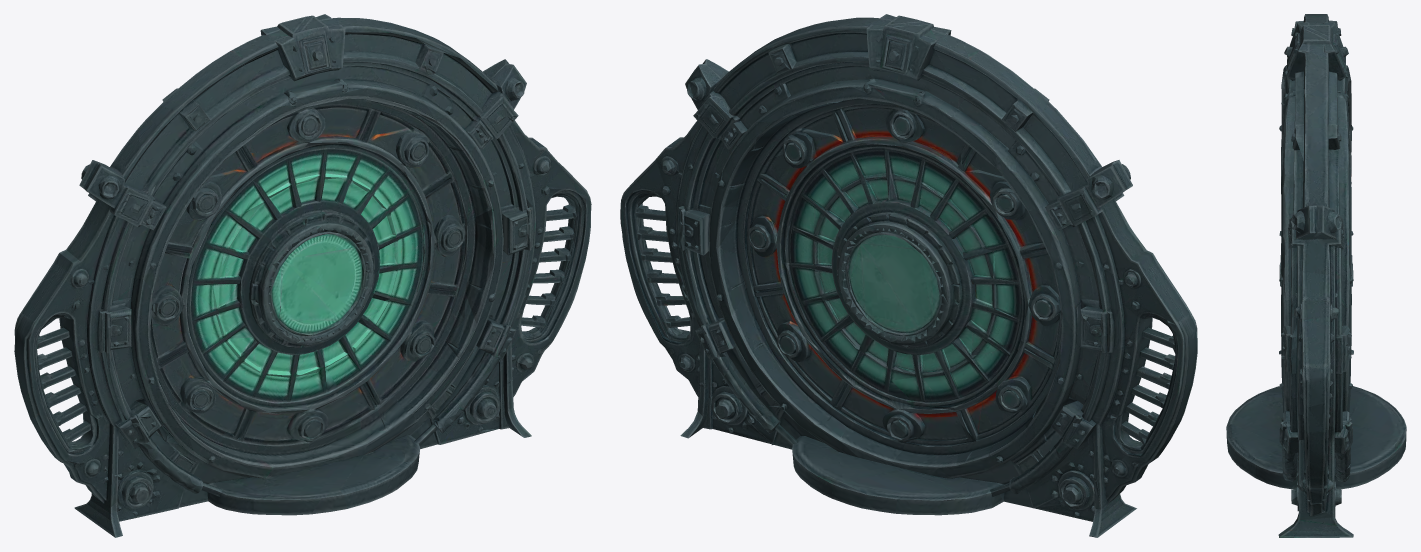
File: mx_ct_keygate.glb
3 renders of one model, left to right at view 1: azimuth 30°, elevation 25°; view 2: azimuth 150°, elevation 25°; view 3: azimuth 270°, elevation 25°, orthographic. The views are drawn at different scales.
Bounding box in the file's own units: 1.9 × 1.44 × 0.5684.
1 material, 1 textured.
